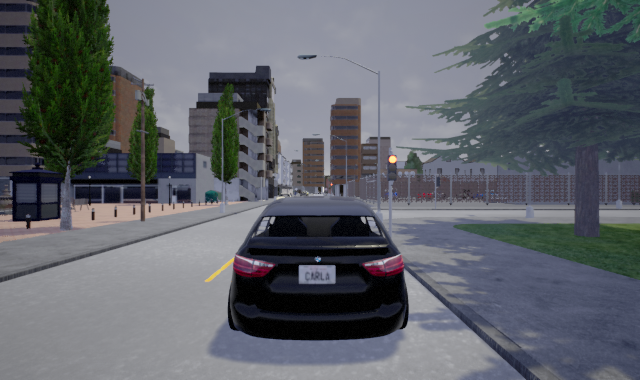vehicle: (226, 195, 408, 341)
